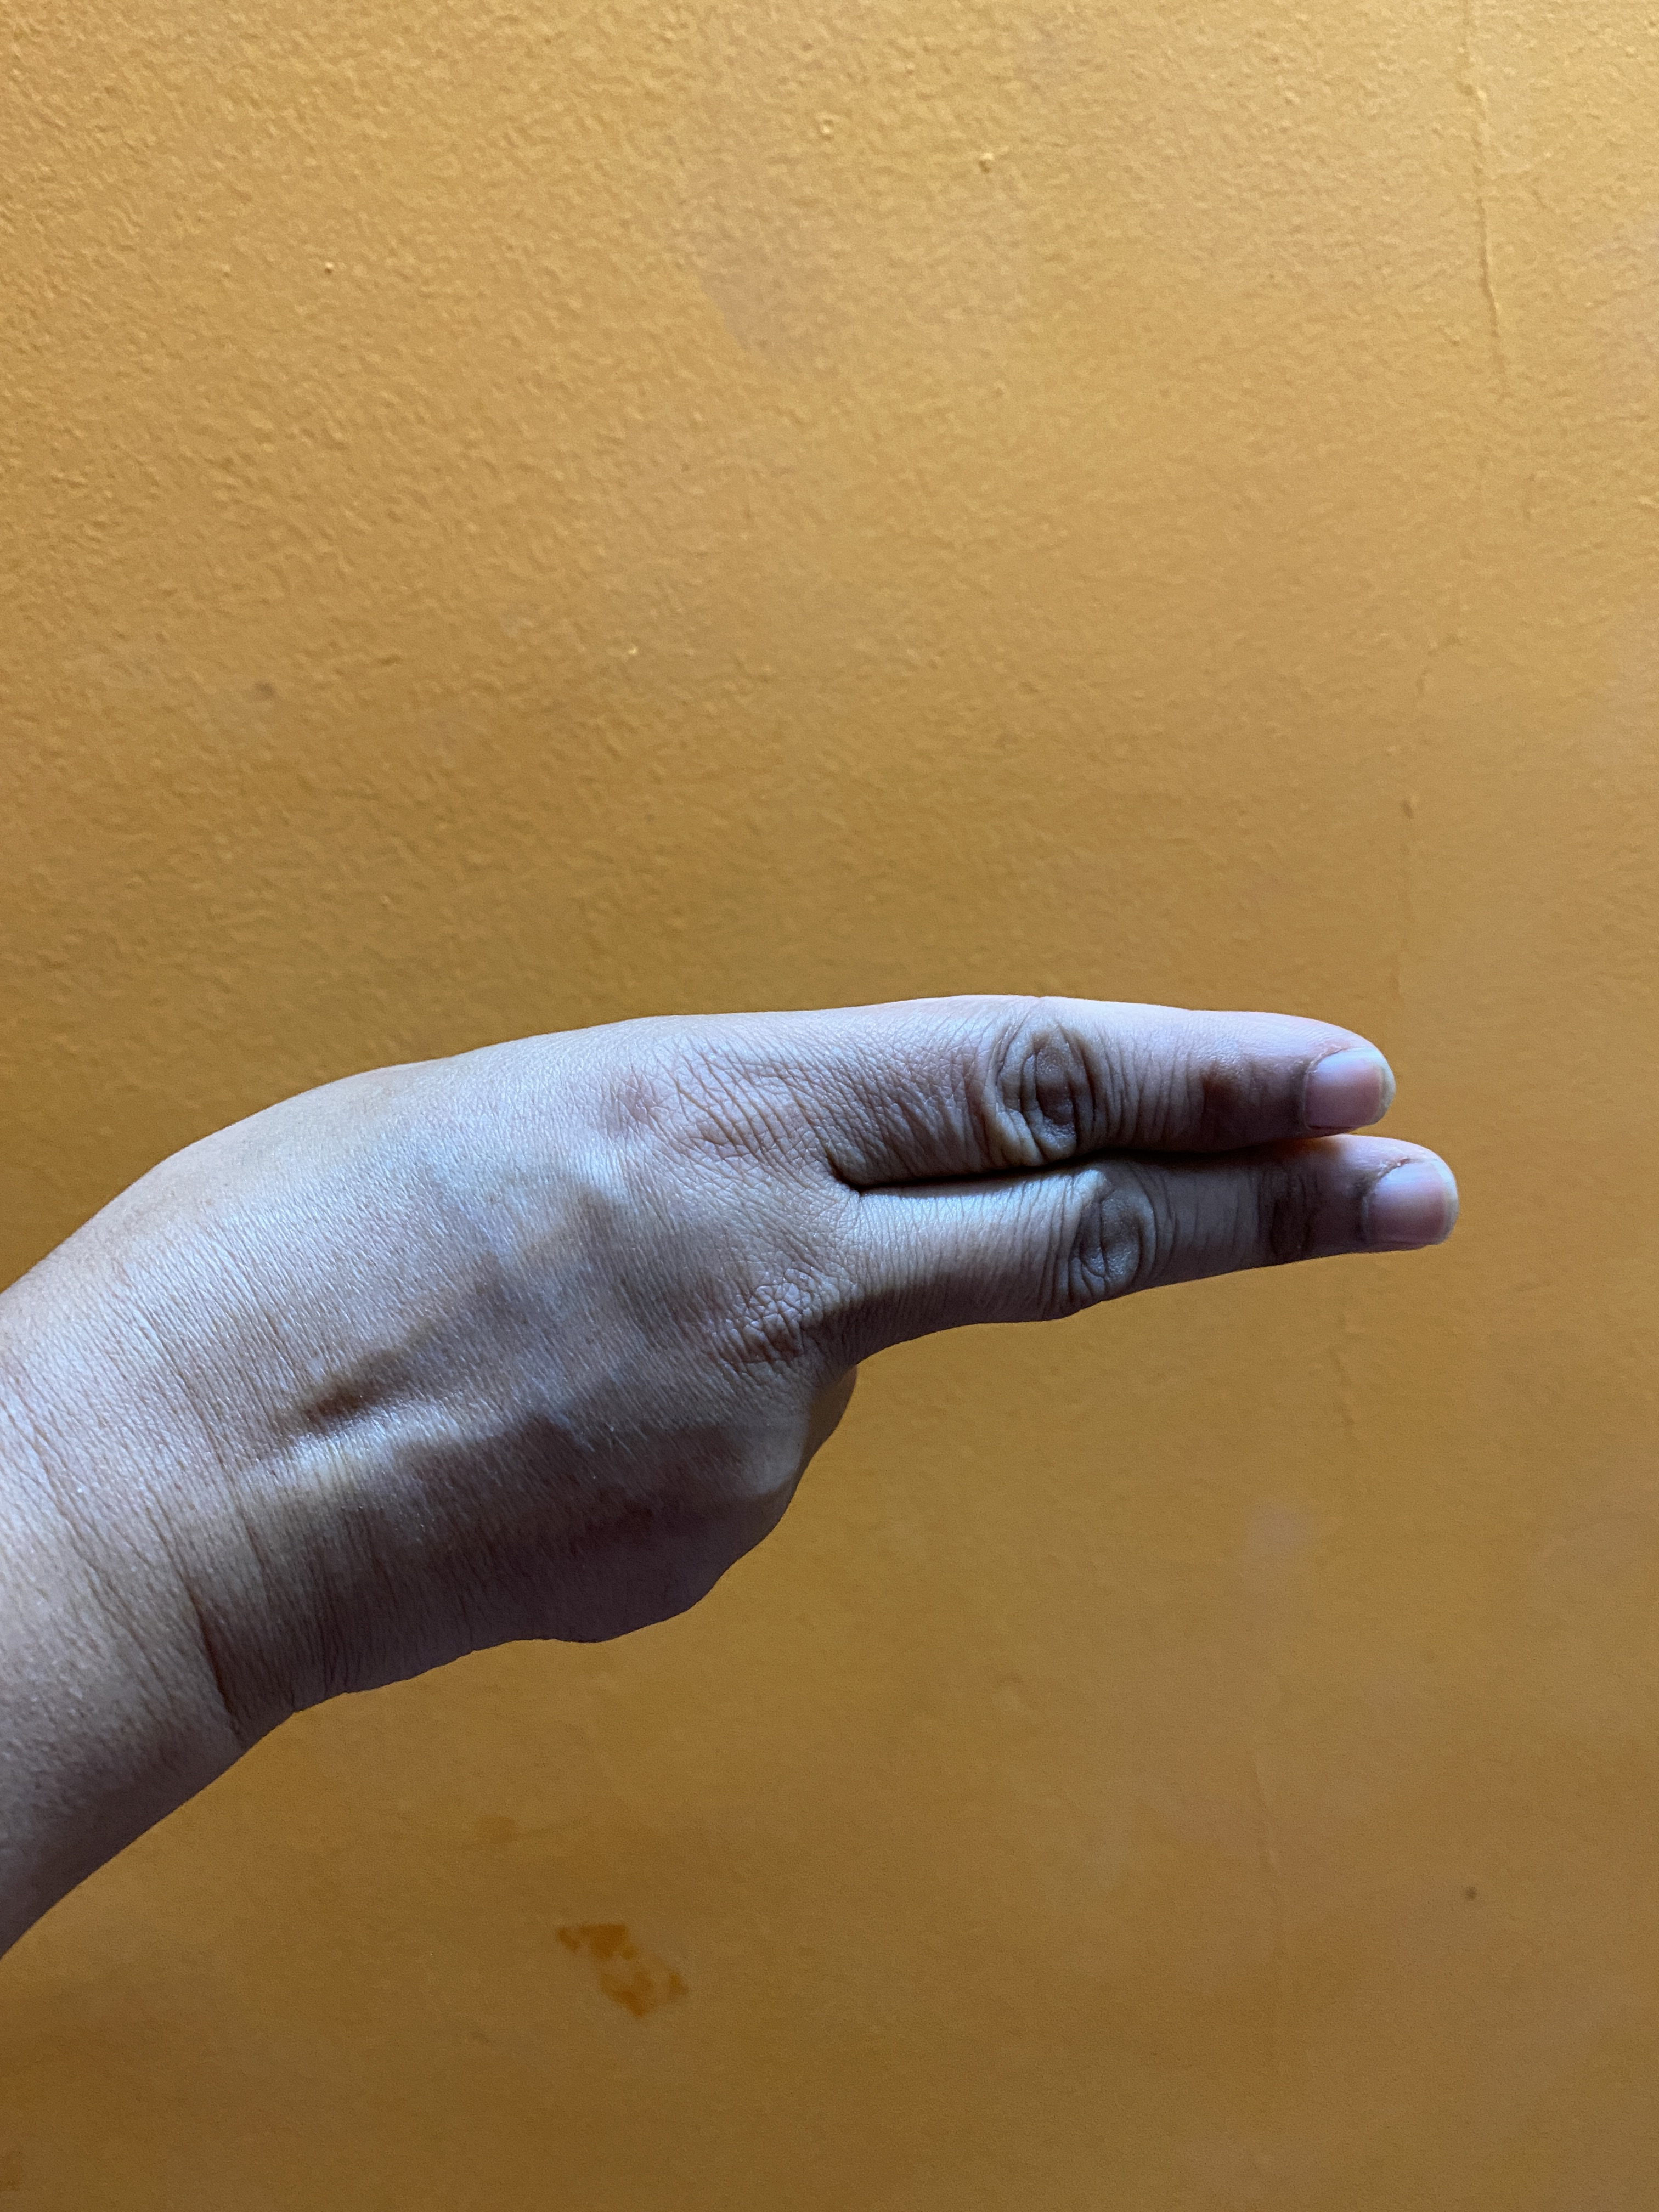left: (7, 867, 1513, 2057)
